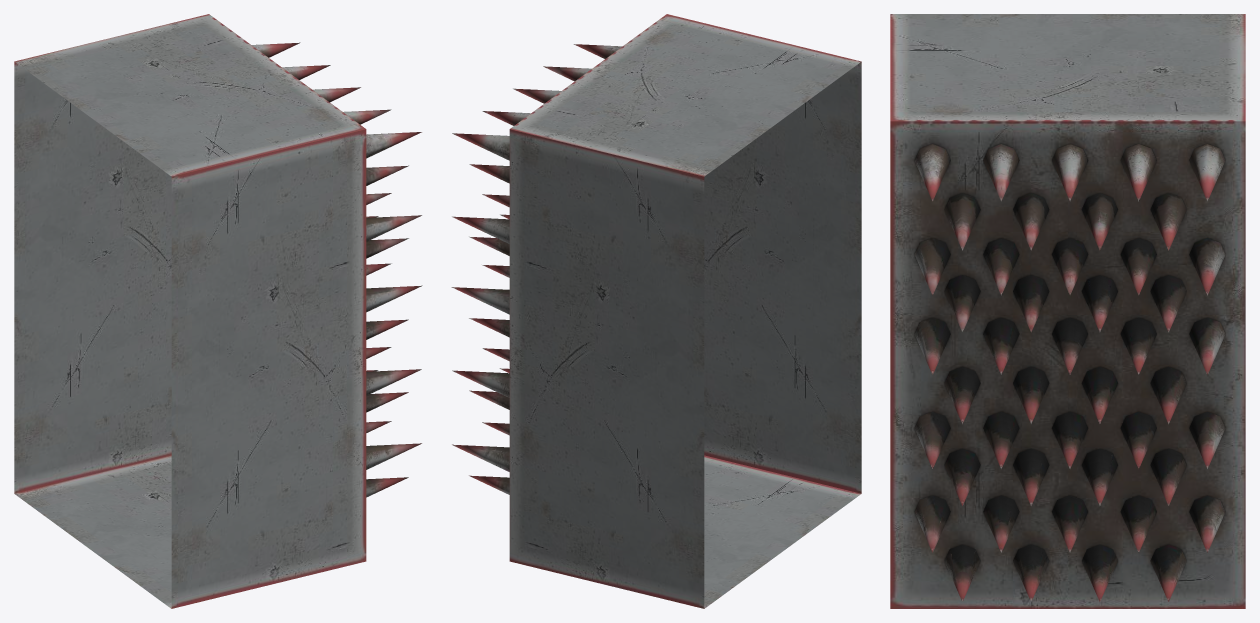
File: Spikes.fbx
The picture shows the model from 3 angles, left to right: view 1: azimuth 30°, elevation 25°; view 2: azimuth 150°, elevation 25°; view 3: azimuth 270°, elevation 25°; orthographic projection. The views are drawn at different scales.
Parts seen in each view (by area): view 1: Doors; view 2: Doors; view 3: Doors.
Boxes of the visible parts, x1,y1,x2,y2 form: Doors: (14, 14, 422, 608); Doors: (451, 14, 861, 608); Doors: (890, 14, 1245, 608).
Size of the model in its own units: 8.63 by 13.21 by 8.71.
